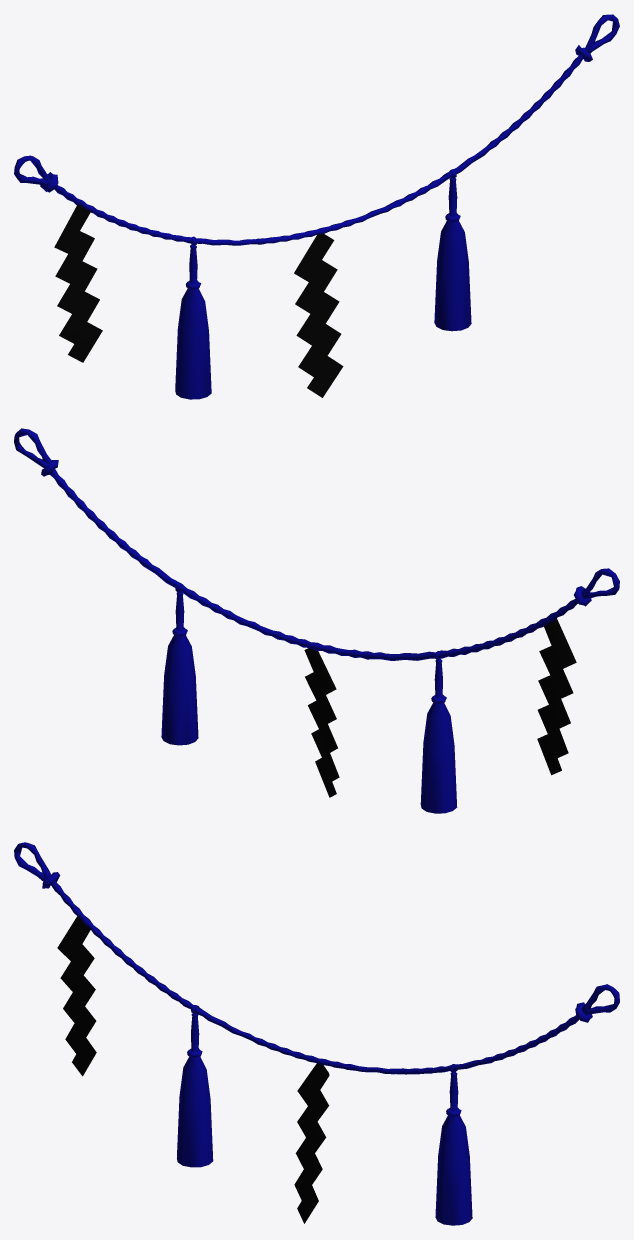
The model's file is SM_ENV_LKNVLD_StrawRope_F.gltf.
The picture shows the model from 3 angles, top to bottom: view 1: azimuth 30°, elevation 25°; view 2: azimuth 150°, elevation 25°; view 3: azimuth 330°, elevation 25°; orthographic projection.
Parts seen in each view (by area): view 1: SM_ENV_LKNVLD_StrawRope_F; view 2: SM_ENV_LKNVLD_StrawRope_F; view 3: SM_ENV_LKNVLD_StrawRope_F.
Part boxes in pixels (box(x1,y1,x2,y2)): SM_ENV_LKNVLD_StrawRope_F: box(14, 14, 619, 399); SM_ENV_LKNVLD_StrawRope_F: box(14, 428, 619, 813); SM_ENV_LKNVLD_StrawRope_F: box(14, 842, 619, 1225).
Bounding box in the file's own units: 9.2 × 4.44 × 0.5845.
